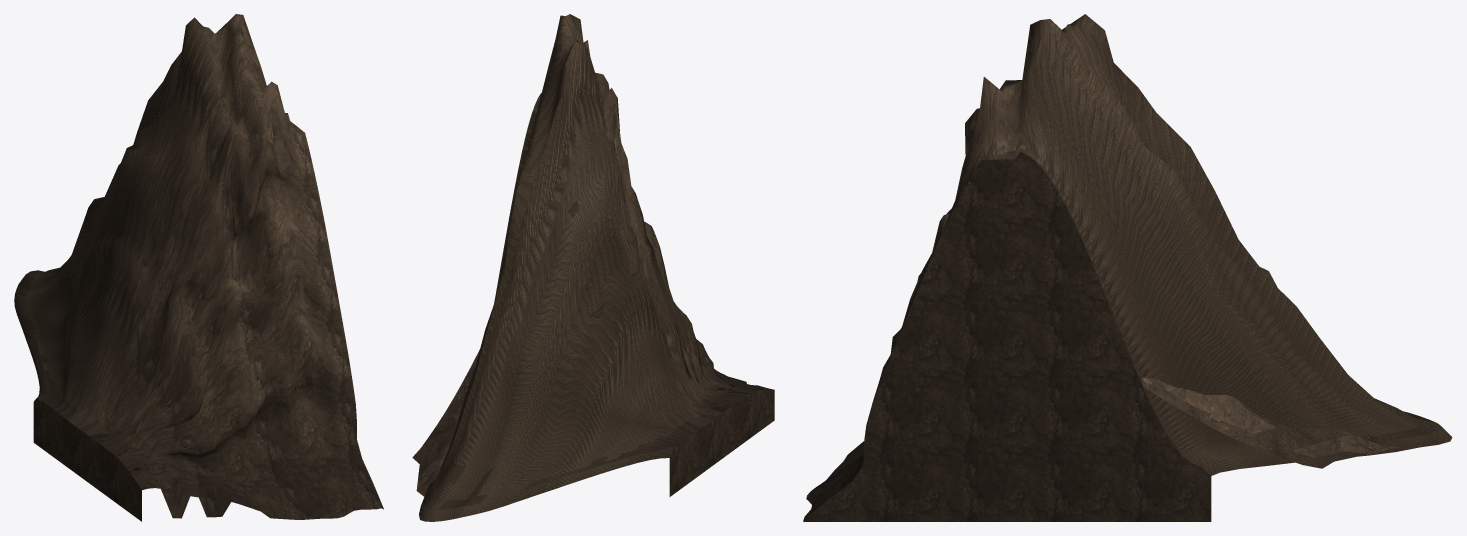
File: seacliff_endcap_left_h8_b_v5_dead.glb
The picture shows the model from 3 angles, left to right: view 1: azimuth 30°, elevation 25°; view 2: azimuth 150°, elevation 25°; view 3: azimuth 270°, elevation 25°; orthographic projection. The views are drawn at different scales.
Parts seen in each view (by area): view 1: seacliff_endcap_left_h8_b; view 2: seacliff_endcap_left_h8_b; view 3: seacliff_endcap_left_h8_b.
Part boxes in pixels (<box>): seacliff_endcap_left_h8_b: <box>14,14,383,521</box>; seacliff_endcap_left_h8_b: <box>412,14,774,521</box>; seacliff_endcap_left_h8_b: <box>803,14,1452,521</box>.
Bounding box in the file's own units: 6 × 12.59 × 15.37.
2 materials, 2 textured.
